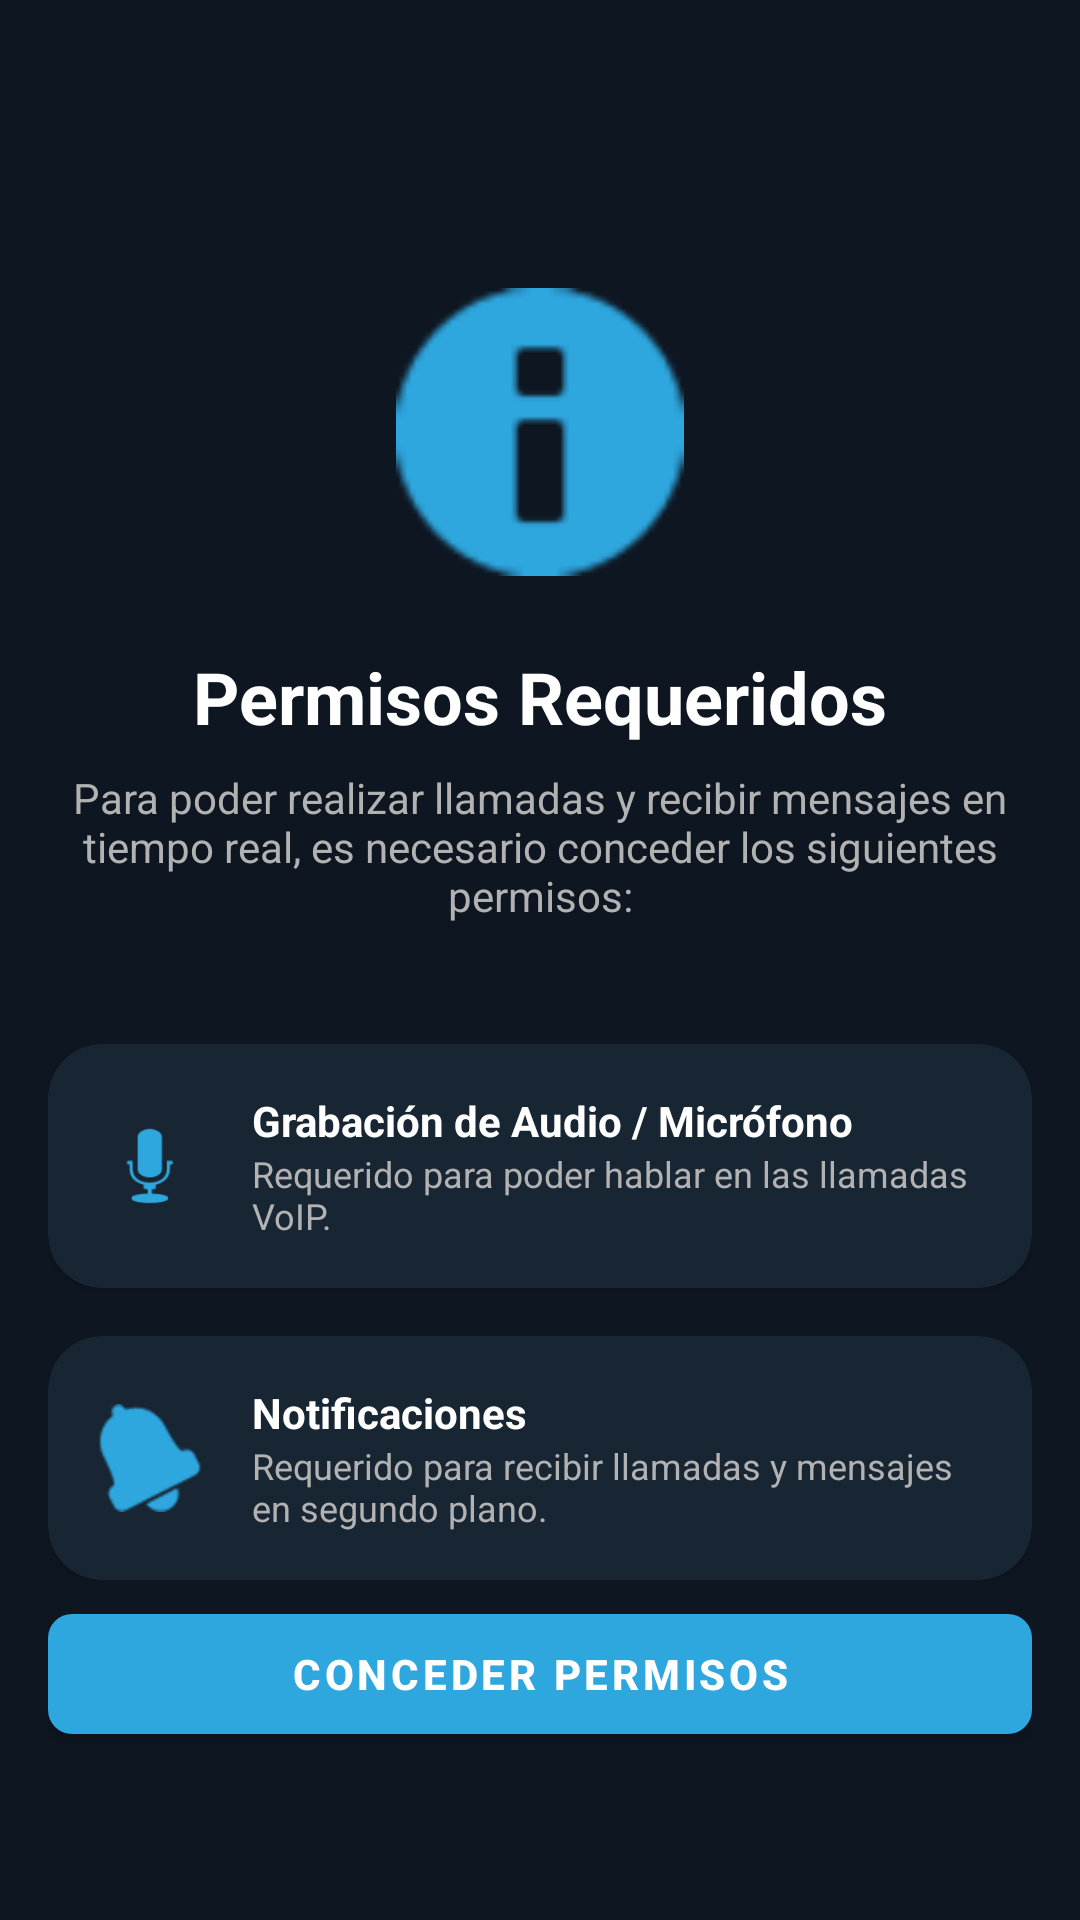

Screen size 1080x1920. Icon name, then its box in pixels as (x1,y1,x2,y2):
info: (396,288,684,576)
popup reminder: (99,1404,201,1512)
speak now: (126,1129,174,1203)
